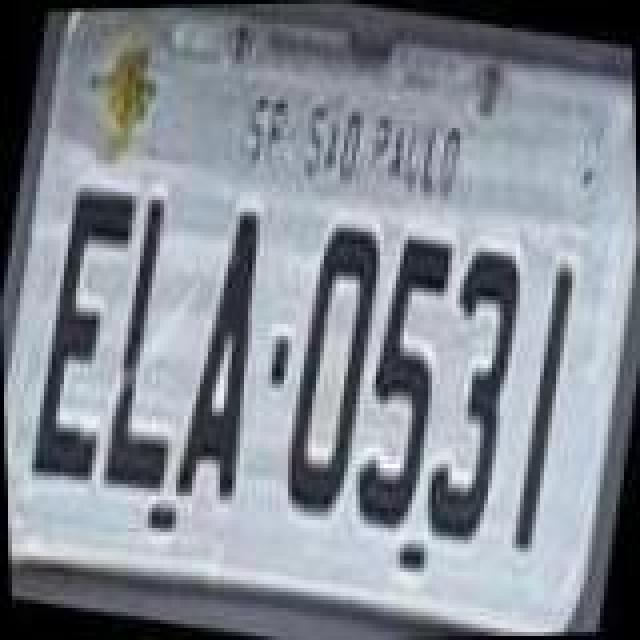1: (498, 254, 590, 554)
3: (404, 238, 536, 550)
5: (336, 226, 468, 538)
A: (160, 196, 292, 508)
E: (12, 170, 148, 486)
L: (86, 184, 218, 500)
O: (264, 214, 396, 522)
